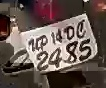1: (49, 31, 56, 46)
2: (35, 51, 48, 72)
4: (49, 47, 63, 71), (55, 27, 65, 45)
5: (78, 38, 93, 61)
8: (65, 41, 77, 65)
C: (75, 20, 87, 39)
D: (64, 24, 75, 41)
P: (39, 32, 48, 50)
U: (28, 36, 39, 53)
